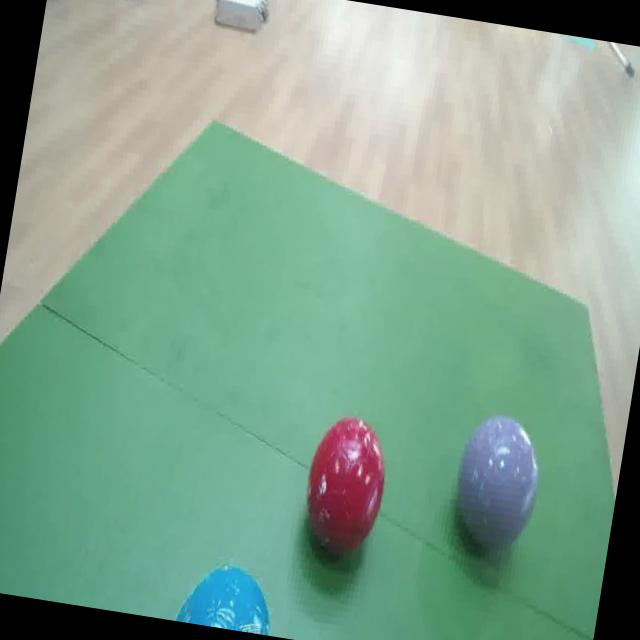blue_ball: (169, 560, 277, 636)
purple_ball: (448, 407, 548, 561)
red_ball: (299, 408, 396, 565)
